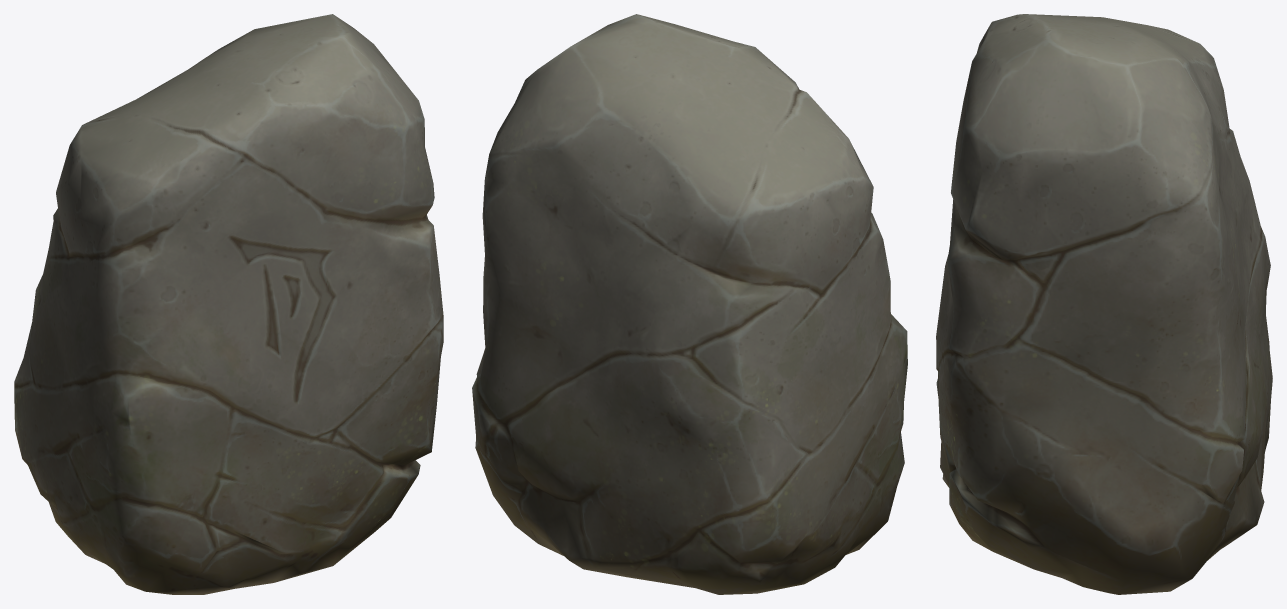
File: MSH_fwOF_Standing_Stone_4.fbx
The picture shows the model from 3 angles, left to right: view 1: azimuth 30°, elevation 25°; view 2: azimuth 150°, elevation 25°; view 3: azimuth 270°, elevation 25°; orthographic projection. The views are drawn at different scales.
Visible parts, largest first — view 1: MSH_fwOF_Standing_Stone_4_LOD0; view 2: MSH_fwOF_Standing_Stone_4_LOD0; view 3: MSH_fwOF_Standing_Stone_4_LOD0.
Boxes of the visible parts, x1,y1,x2,y2 form: MSH_fwOF_Standing_Stone_4_LOD0: [14, 14, 443, 594]; MSH_fwOF_Standing_Stone_4_LOD0: [472, 14, 907, 594]; MSH_fwOF_Standing_Stone_4_LOD0: [936, 14, 1272, 594].
Size of what is drawn, in the model's own units: 2.77 by 3.64 by 2.12.
